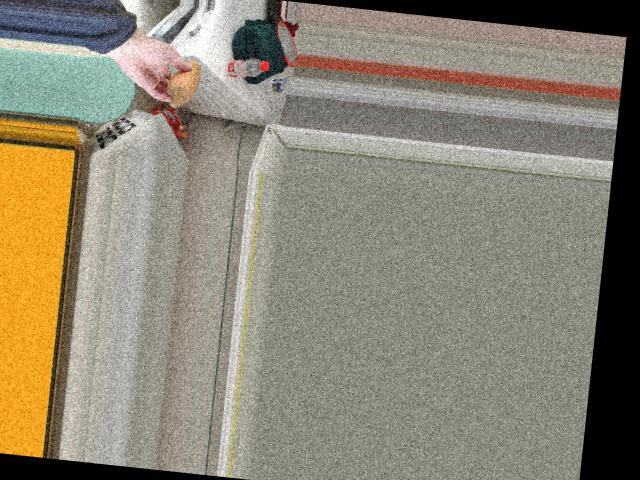sweet_potato: (161, 60, 201, 104)
